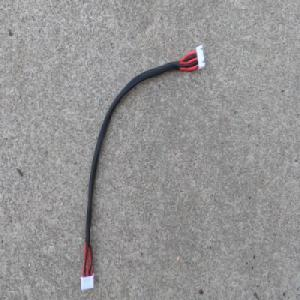Wire: (78, 42, 206, 291)
